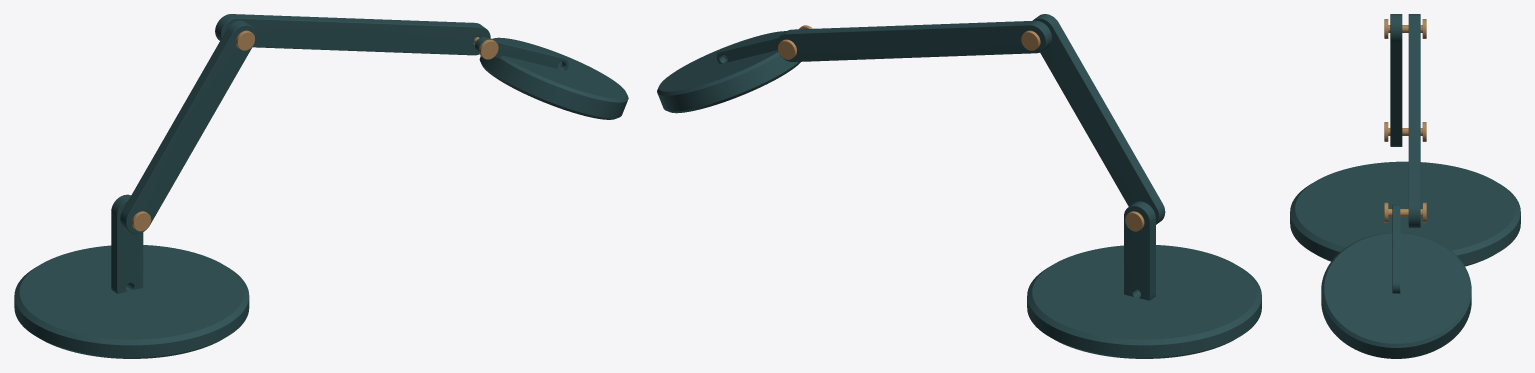
3 views of the same model, side by side, from view 1: azimuth 30°, elevation 25°; view 2: azimuth 150°, elevation 25°; view 3: azimuth 270°, elevation 25° (orthographic).
Visible parts, largest first — view 1: Base body, Upper arm, Lower arm, Head housing, Fixed upright, Head neck; view 2: Base body, Upper arm, Lower arm, Head housing, Fixed upright, Head neck; view 3: Base body, Head housing, Upper arm, Lower arm, Head neck.
Boxes of the visible parts, <box> form: Base body: <box>14,245,249,358</box>; Upper arm: <box>215,14,490,55</box>; Lower arm: <box>120,20,256,233</box>; Head housing: <box>479,37,628,119</box>; Fixed upright: <box>111,194,143,293</box>; Head neck: <box>475,37,568,70</box>; Base body: <box>1027,245,1261,358</box>; Upper arm: <box>776,20,1051,61</box>; Lower arm: <box>1032,14,1165,224</box>; Head housing: <box>657,31,800,113</box>; Fixed upright: <box>1124,201,1155,300</box>; Head neck: <box>716,35,780,63</box>; Base body: <box>1290,161,1520,266</box>; Head housing: <box>1321,233,1471,358</box>; Upper arm: <box>1408,14,1420,227</box>; Lower arm: <box>1390,14,1402,146</box>; Head neck: <box>1392,204,1400,293</box>.
Size of the model in its own units: 0.659 by 0.2929 by 0.23.
